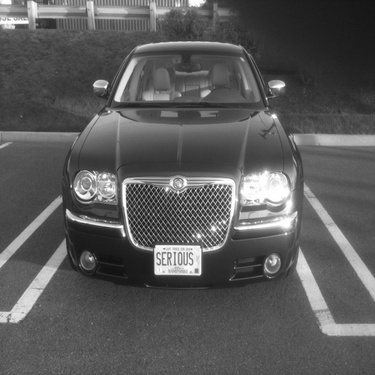car: (59, 33, 313, 290)
